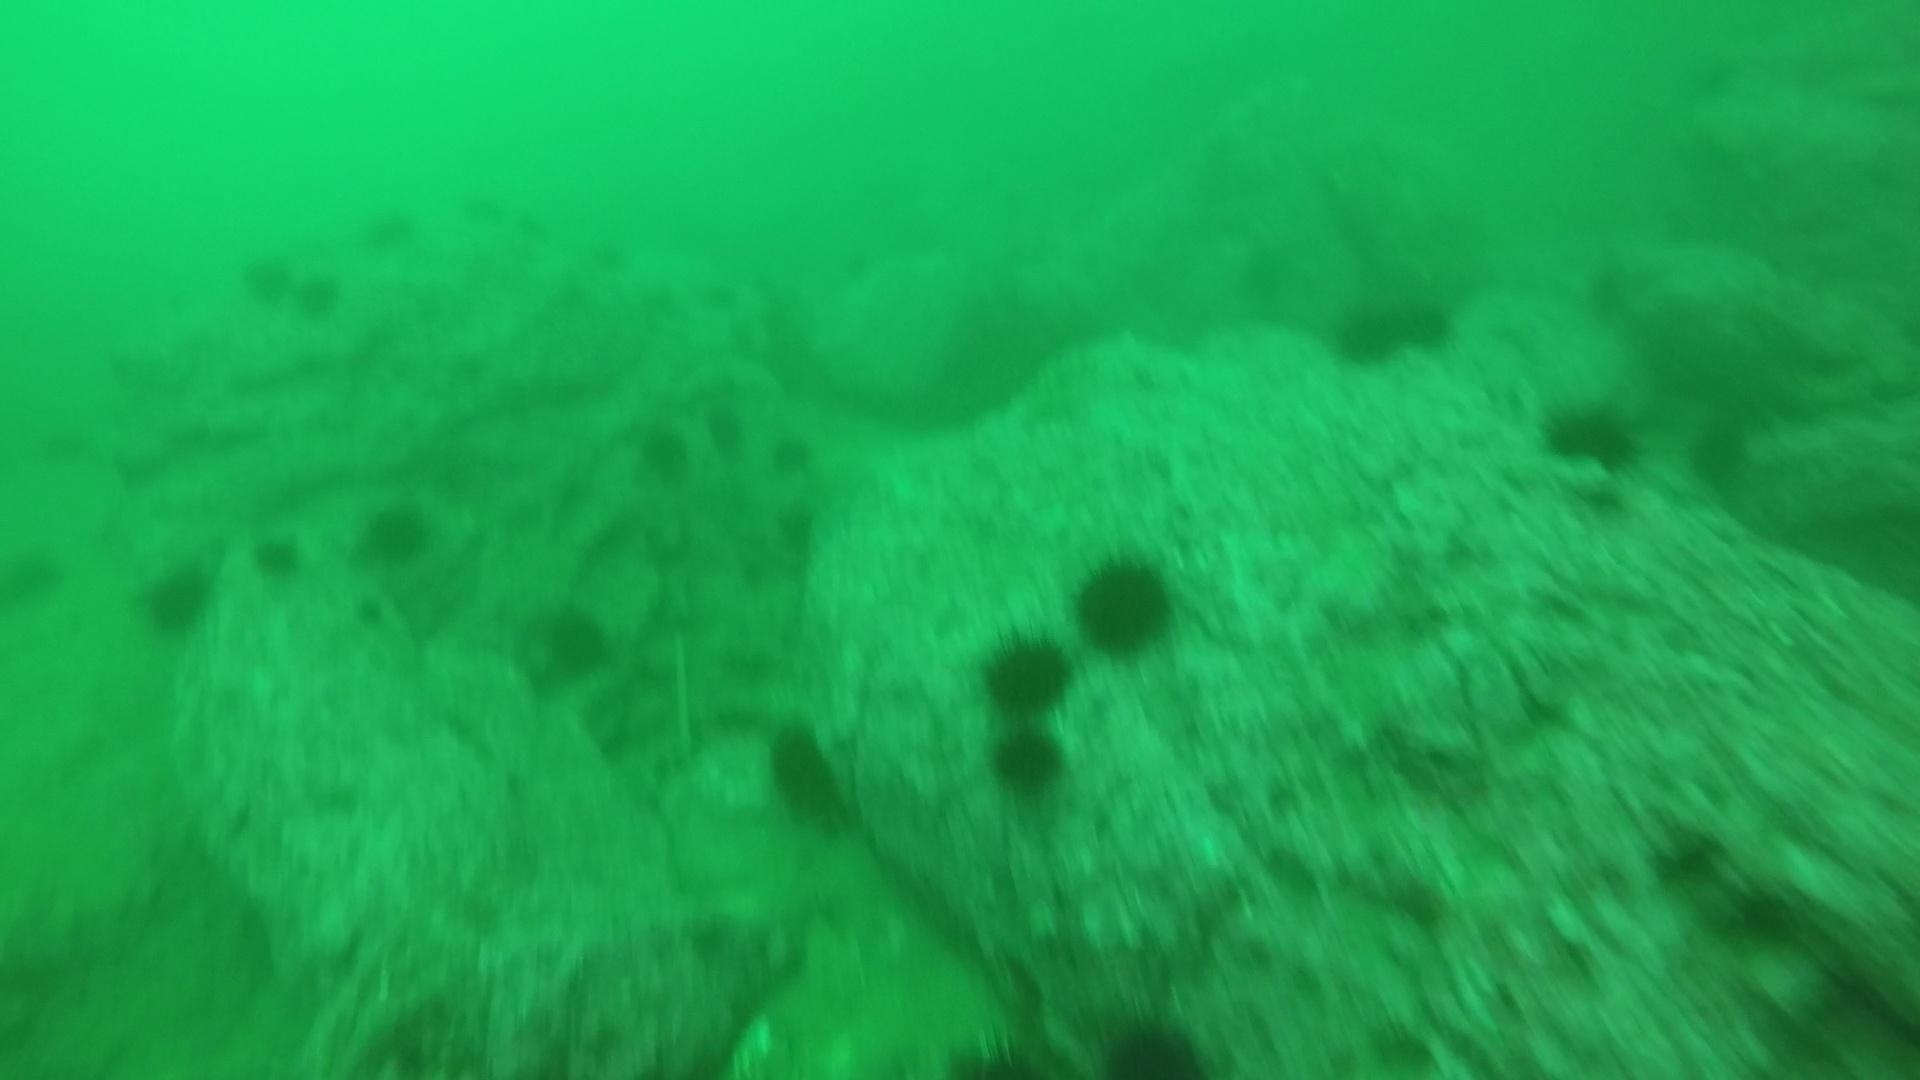echinus: (1067, 549, 1182, 662), (760, 719, 857, 832), (975, 625, 1079, 719), (1538, 394, 1644, 476), (1095, 1011, 1211, 1077), (136, 556, 219, 640), (531, 599, 616, 680), (984, 721, 1069, 800), (353, 496, 438, 568), (1683, 415, 1755, 491), (1, 541, 69, 611), (632, 418, 696, 485), (237, 247, 301, 311), (1389, 290, 1458, 345), (247, 527, 309, 584), (770, 498, 825, 556), (359, 200, 419, 253), (707, 266, 767, 319), (829, 241, 890, 294), (1331, 313, 1391, 365), (636, 274, 695, 327), (287, 266, 344, 320), (702, 400, 752, 460), (765, 427, 819, 479), (465, 195, 509, 237), (593, 237, 637, 280), (524, 208, 560, 248)
